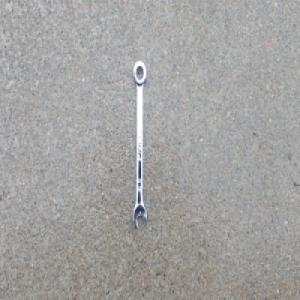Wrench: (132, 58, 147, 229)
